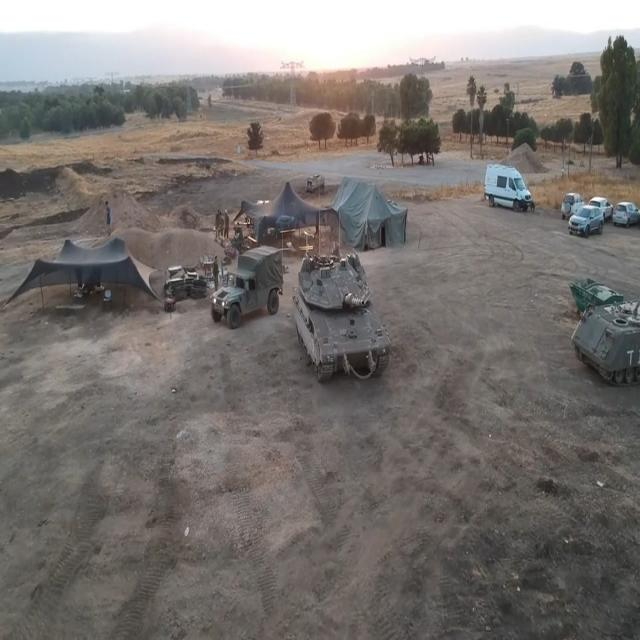tank: (295, 244, 391, 391)
